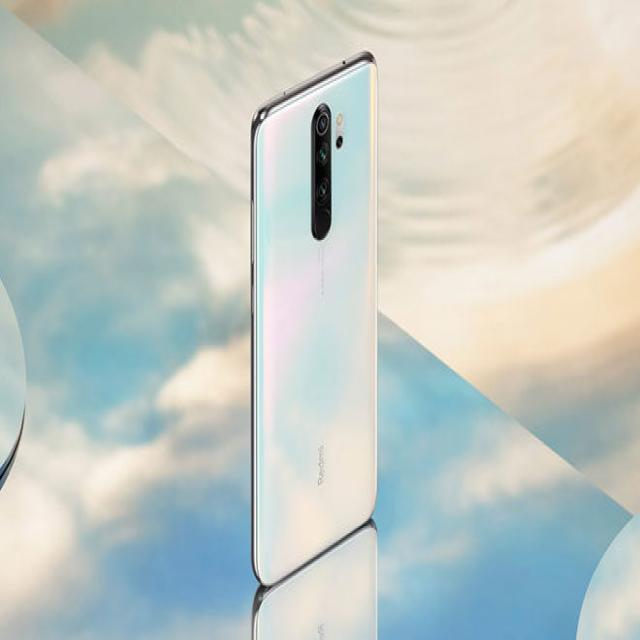Red Mi Note 8 Pro: (249, 53, 381, 640)
